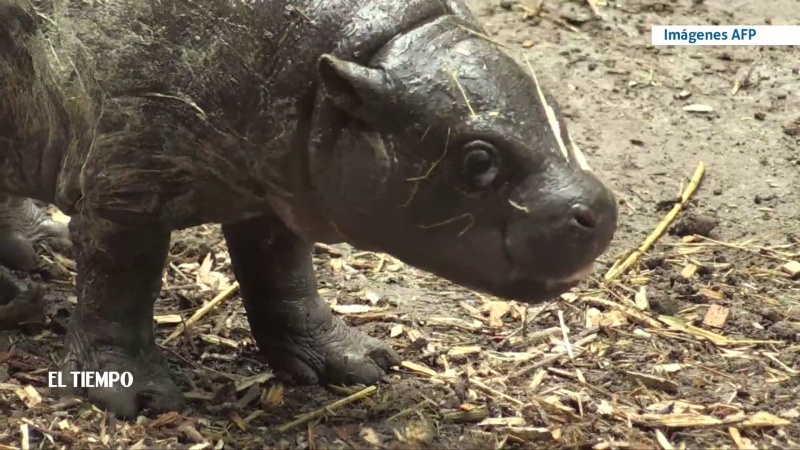hipopotamo: (1, 1, 628, 410)
